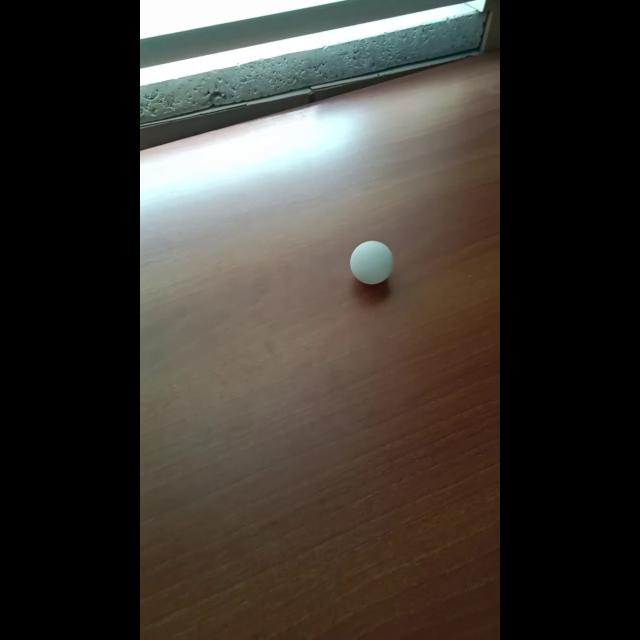white ball: (349, 239, 393, 285)
